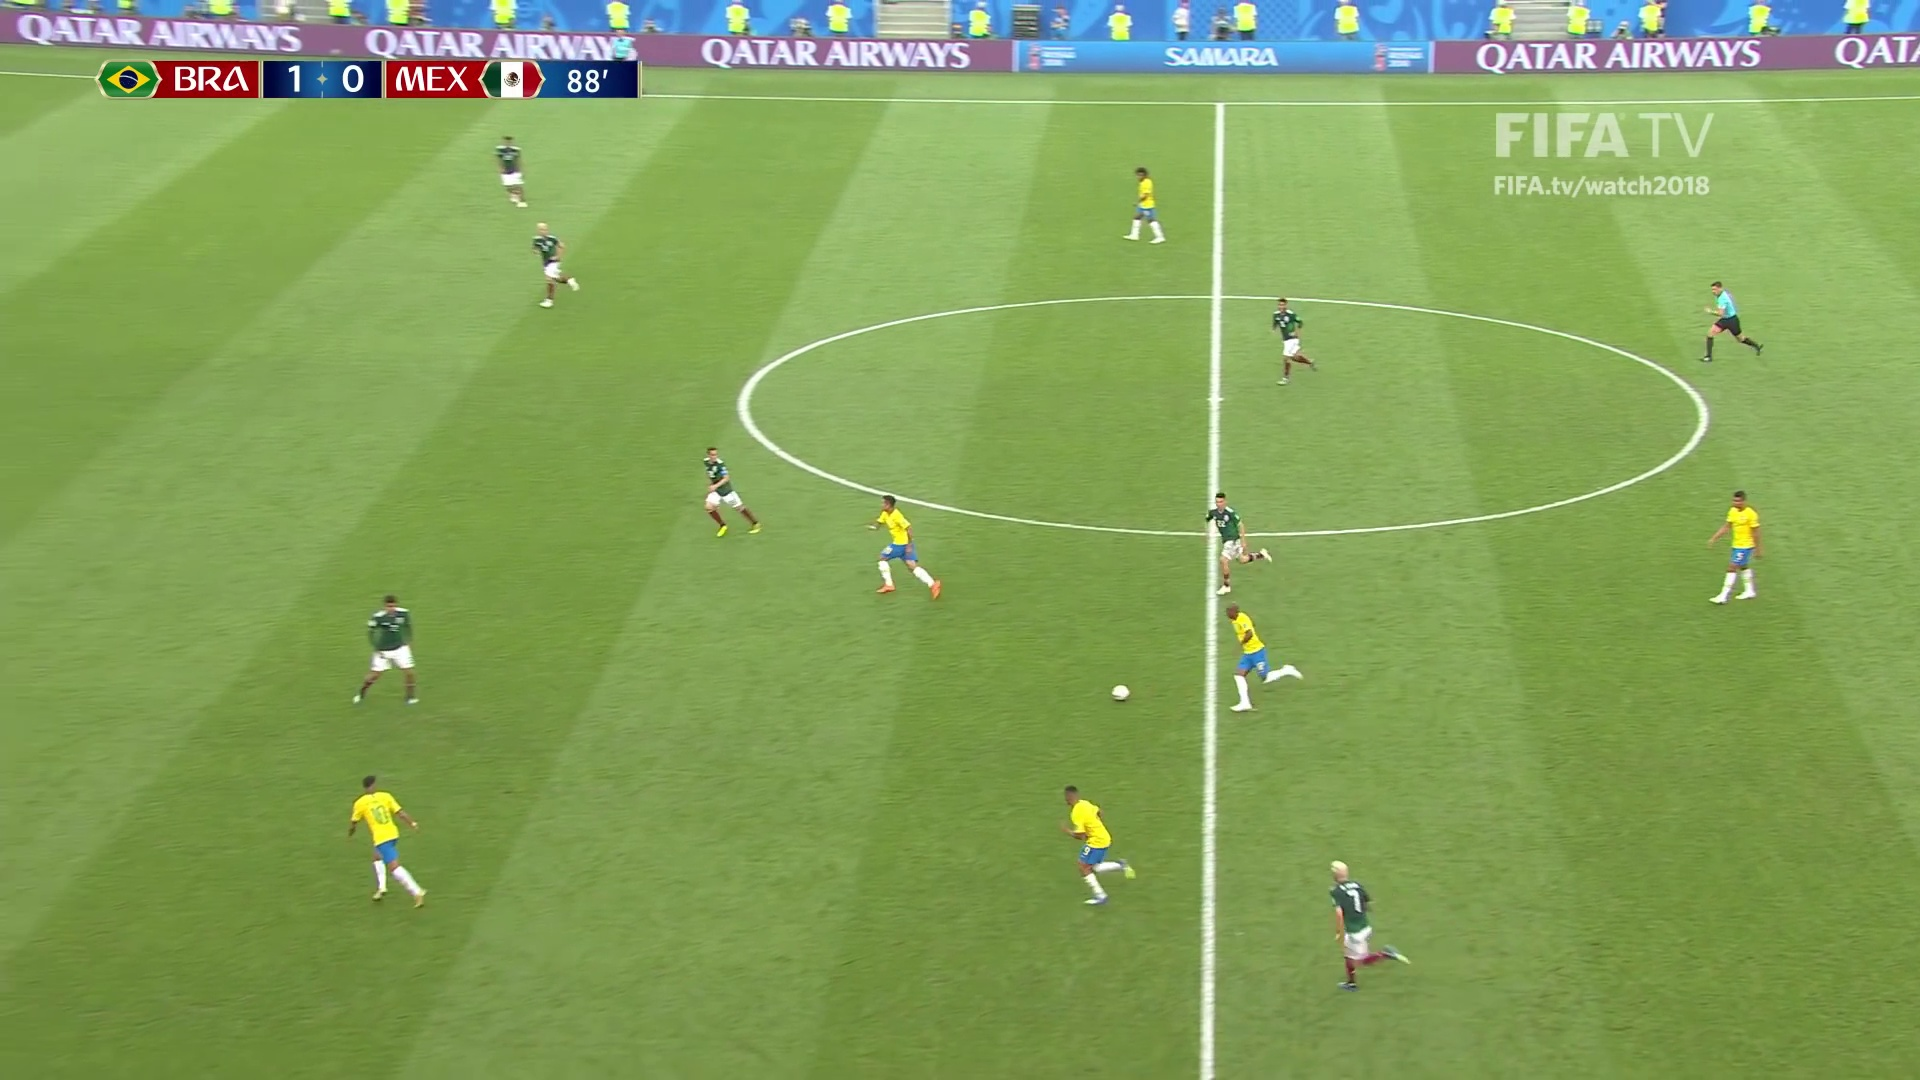ball: (1114, 686, 1130, 700)
person: (346, 777, 424, 906), (1332, 863, 1409, 989), (1062, 790, 1137, 903), (1225, 603, 1301, 713), (1206, 495, 1272, 598), (873, 495, 939, 595), (358, 595, 416, 703), (1710, 491, 1760, 603), (707, 447, 758, 535), (1273, 300, 1315, 386), (533, 222, 574, 307), (1130, 168, 1162, 241), (496, 136, 529, 206)
